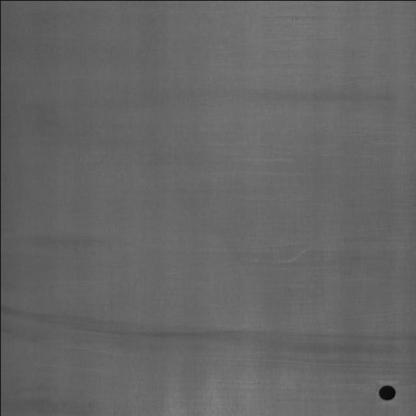punching_hole: (375, 380, 397, 406)
